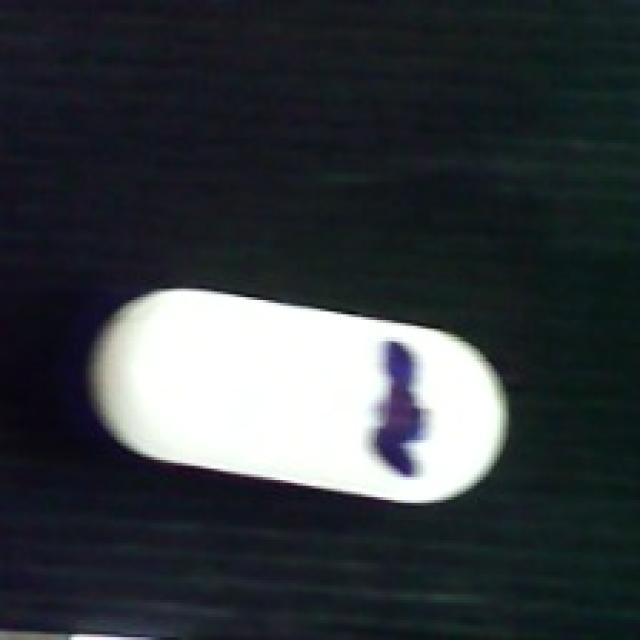defected: (83, 283, 514, 503)
